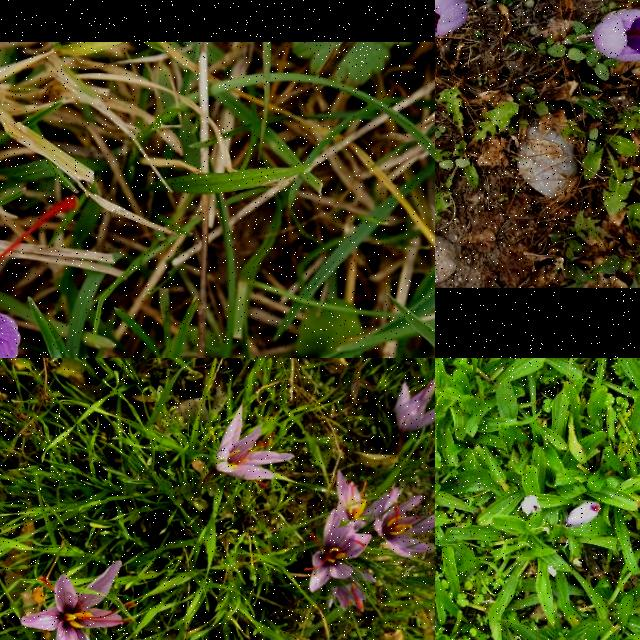flower: (0, 193, 76, 358), (23, 560, 133, 640), (212, 406, 296, 486), (304, 511, 372, 594), (591, 7, 640, 62), (395, 377, 435, 432), (435, 0, 467, 35), (564, 502, 600, 528), (520, 496, 542, 516)
overlap: (325, 470, 435, 612)
